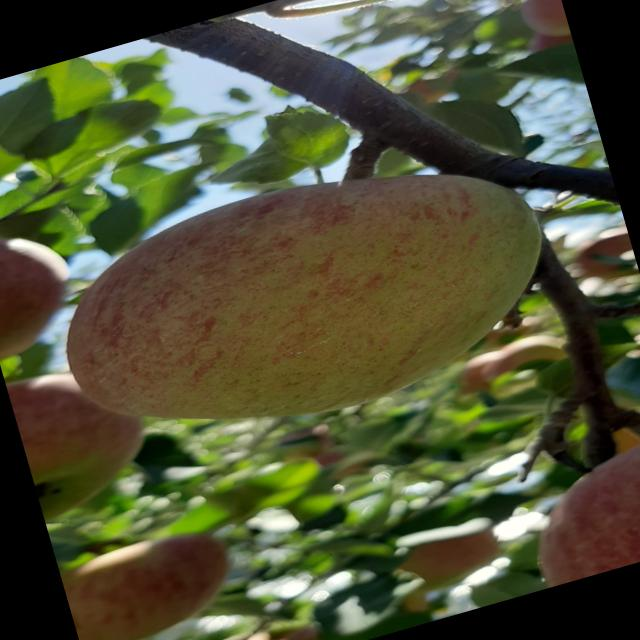fresh: (22, 108, 589, 485)
